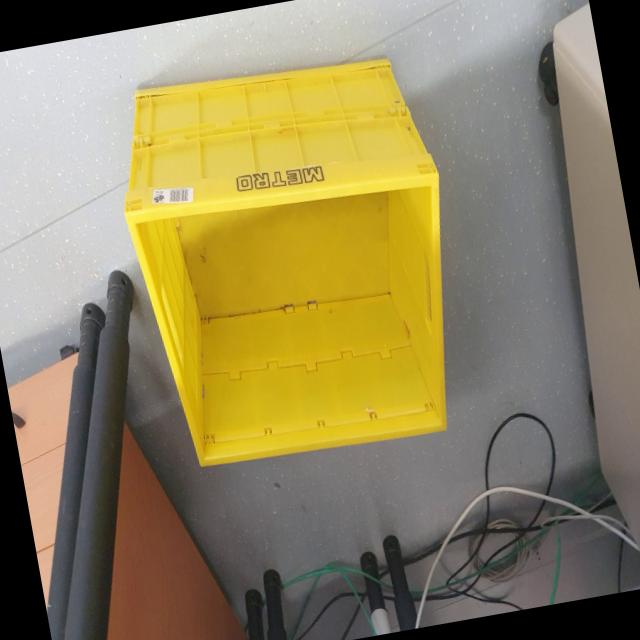box: (97, 16, 490, 503)
